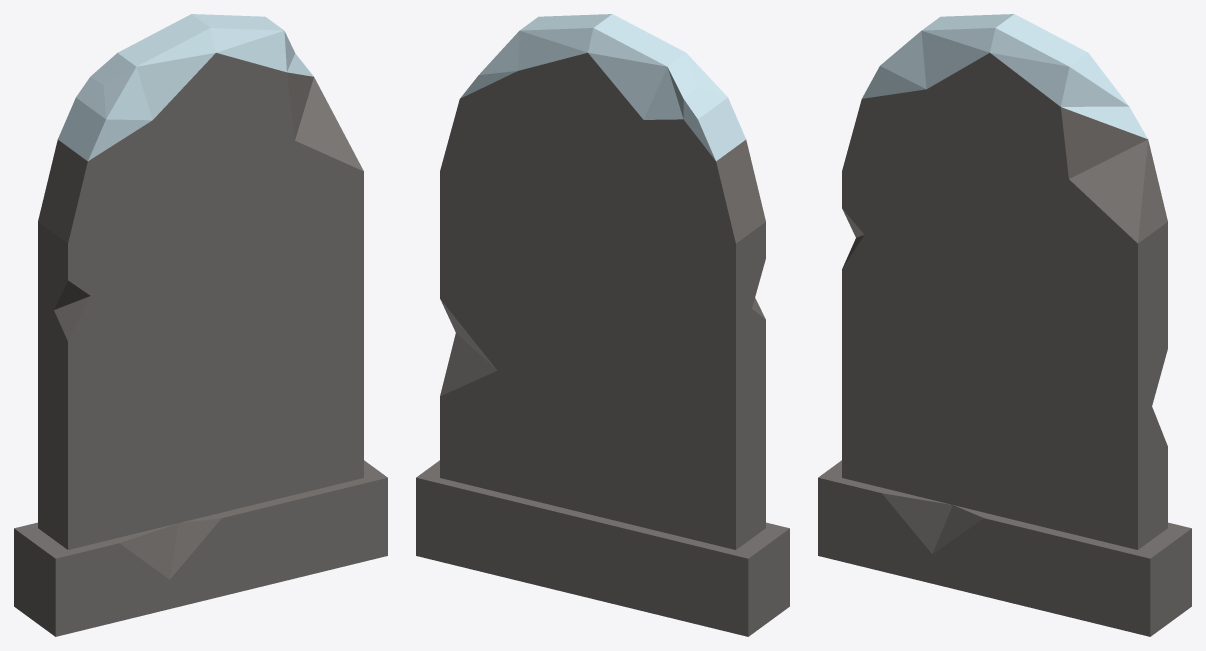
File: SM_Prop_Gravestone_02_Snow.gltf
The picture shows the model from 3 angles, left to right: view 1: azimuth 30°, elevation 25°; view 2: azimuth 150°, elevation 25°; view 3: azimuth 330°, elevation 25°; orthographic projection.
Visible parts, largest first — view 1: SM_Prop_Gravestone_02_Snow; view 2: SM_Prop_Gravestone_02_Snow; view 3: SM_Prop_Gravestone_02_Snow.
Boxes of the visible parts, <box> form: SM_Prop_Gravestone_02_Snow: <box>14,14,387,636</box>; SM_Prop_Gravestone_02_Snow: <box>416,14,789,636</box>; SM_Prop_Gravestone_02_Snow: <box>818,14,1191,636</box>.
Bounding box in the file's own units: 0.5815 × 0.9367 × 0.1259.
Materials: 1 (1 with a texture image).
